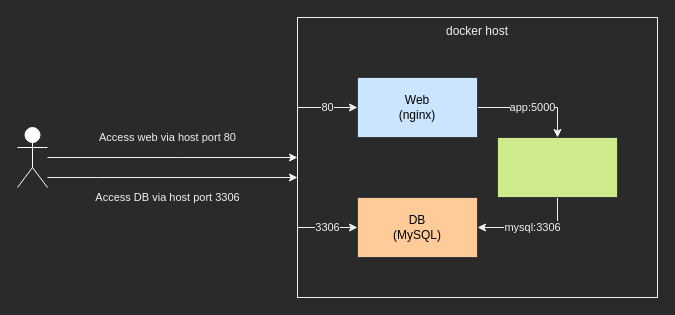
The diagram is 675 pixels wide and 315 high, and some of its shapes have lost their labels. The box of each missing label's shape, as (x1, y1, x2, y2) in pixels:
APP (ASP.NET Core): (496, 136, 618, 198)
User: (16, 126, 48, 188)
